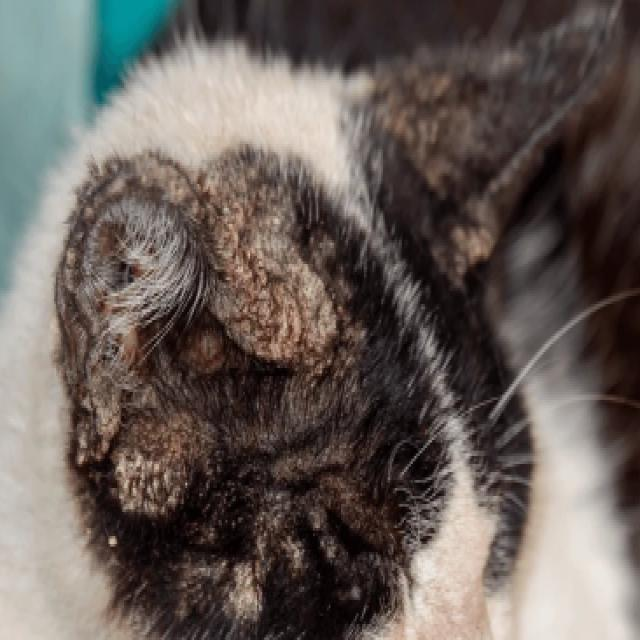Mange: (108, 444, 195, 518), (232, 557, 274, 619), (58, 237, 84, 300), (91, 398, 128, 428), (107, 325, 136, 363), (288, 534, 310, 578), (74, 414, 89, 470), (77, 198, 100, 226)
